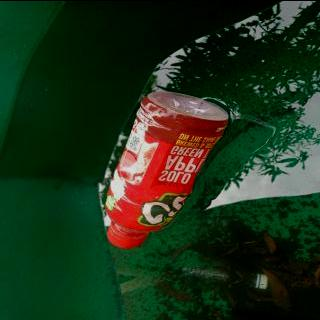bottle: (100, 88, 232, 248)
